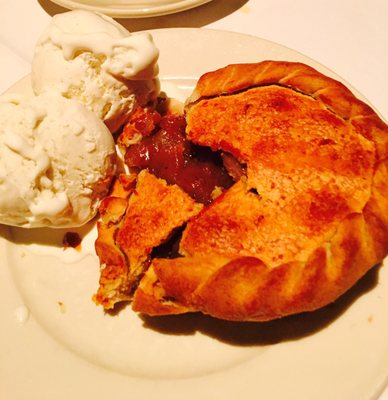curry: (0, 0, 385, 356)
